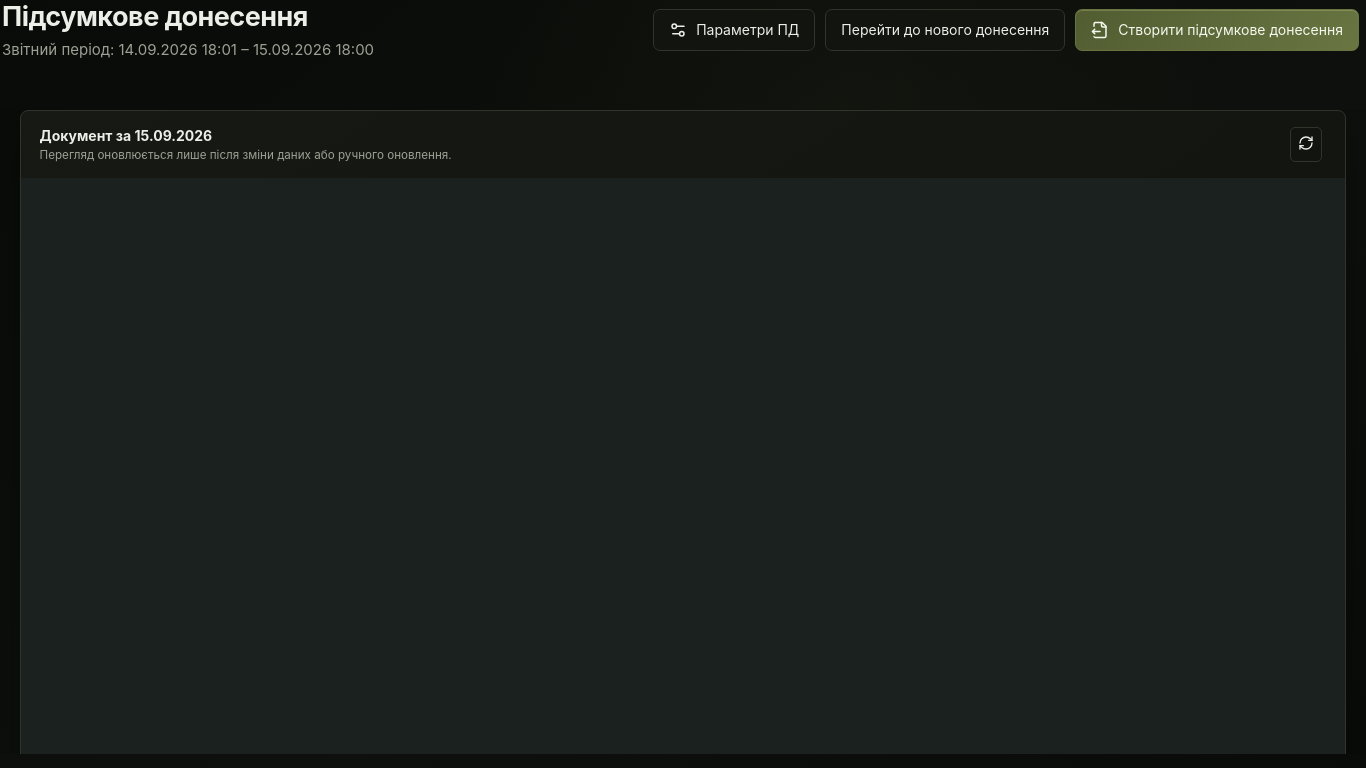
Test case: Підсумкове донесення › переходить до нового донесення лише після підтвердження і зберігає поточне
Click the button "Перейти до нового донесення": x=945, y=30 [825,8,1065,50]
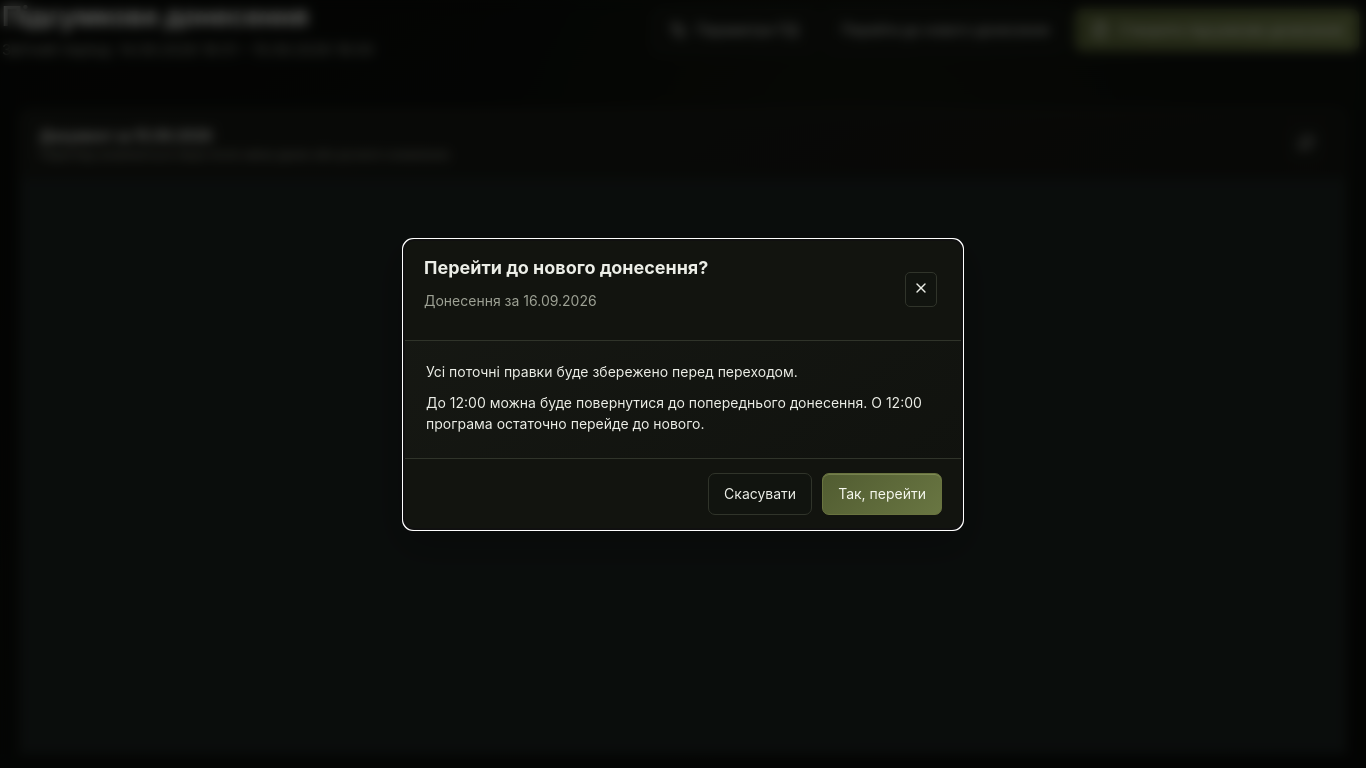
Check: the dialog "Перейти до нового донесення?" is shown, box [403,238,963,530]
Click the button "Так, перейти": x=882, y=494 [822,472,942,514]
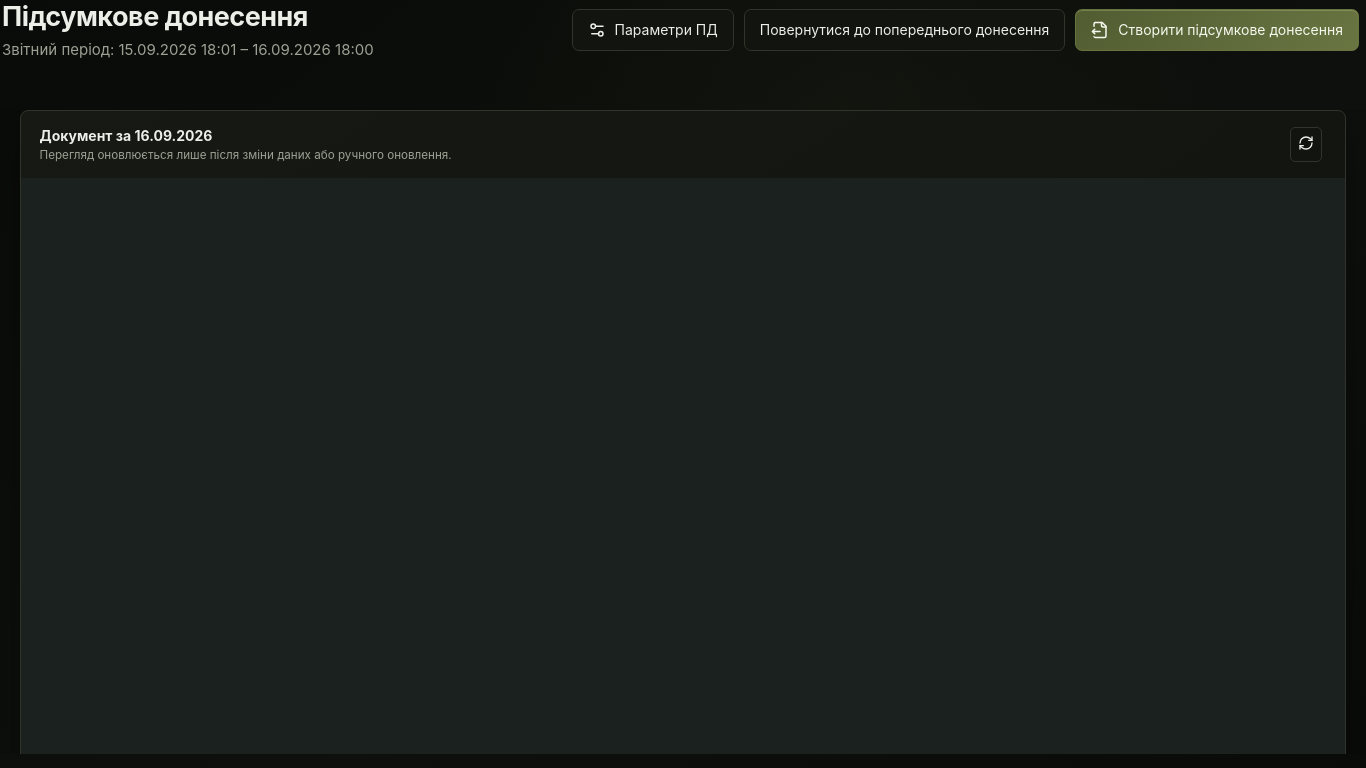
Check: the button "Повернутися до попереднього донесення" is shown, box [744,8,1065,50]
Check: the text "Документ за 16.09.2026" is shown, box [40,127,212,144]
